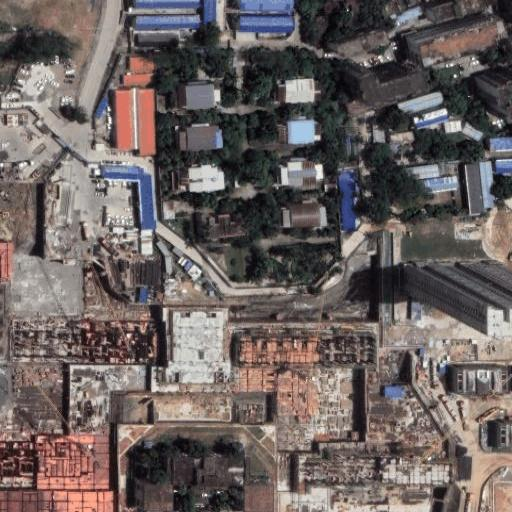building: (69, 365, 146, 428), (16, 327, 149, 360), (400, 12, 491, 60), (402, 260, 507, 297), (46, 182, 92, 265), (0, 483, 115, 512), (169, 307, 225, 366), (0, 443, 98, 476), (167, 455, 250, 486), (298, 452, 381, 483), (240, 333, 317, 366), (337, 58, 406, 94), (379, 457, 456, 489), (153, 396, 233, 423), (316, 337, 381, 369), (464, 162, 498, 215), (476, 67, 512, 117), (344, 89, 397, 119), (322, 27, 376, 56), (449, 362, 503, 390), (134, 89, 156, 157), (172, 166, 226, 192), (338, 171, 359, 234), (397, 90, 444, 117), (179, 123, 223, 151), (278, 159, 325, 185), (274, 78, 322, 103), (115, 89, 134, 151), (276, 119, 323, 142), (139, 170, 157, 228), (207, 213, 245, 238), (283, 205, 326, 226), (181, 84, 217, 109), (137, 15, 199, 29), (240, 16, 292, 32), (388, 5, 425, 27), (144, 484, 173, 512), (245, 485, 275, 512), (420, 177, 460, 197), (412, 108, 450, 129), (431, 1, 461, 25), (376, 227, 394, 266), (456, 0, 492, 18), (404, 163, 438, 181), (241, 0, 295, 11), (137, 33, 179, 47), (123, 71, 162, 86), (494, 419, 512, 449), (461, 122, 485, 142), (0, 237, 11, 280), (104, 165, 139, 178), (95, 93, 111, 120), (130, 56, 155, 73), (6, 112, 31, 128), (158, 196, 175, 219), (140, 228, 154, 255), (371, 120, 386, 145), (389, 131, 416, 144), (154, 238, 172, 257), (490, 136, 512, 151), (35, 118, 52, 135), (324, 0, 342, 16), (316, 15, 331, 34), (496, 158, 512, 174), (187, 265, 203, 281), (204, 0, 216, 21), (412, 300, 422, 322), (445, 120, 462, 132), (297, 478, 309, 494), (384, 386, 403, 396), (343, 137, 351, 160), (350, 136, 357, 159), (172, 247, 185, 258), (165, 257, 172, 275), (140, 286, 148, 301), (184, 261, 194, 272), (346, 127, 358, 135), (419, 348, 423, 357), (157, 294, 161, 299), (211, 291, 214, 296)
